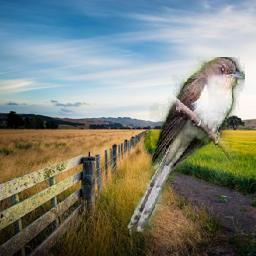Cuckoo: (127, 57, 245, 235)
